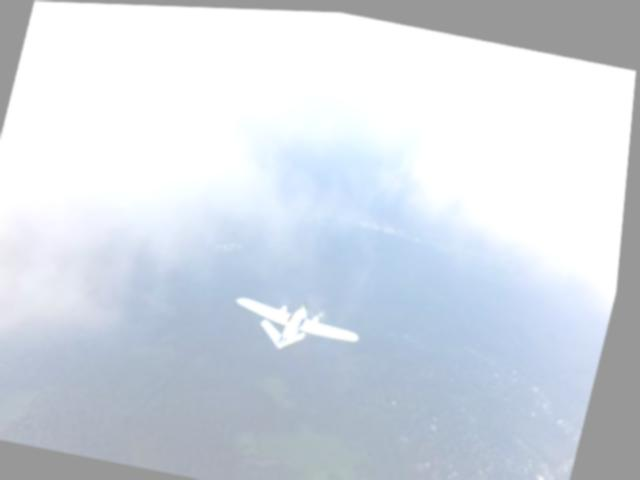uav: (228, 287, 372, 363)
